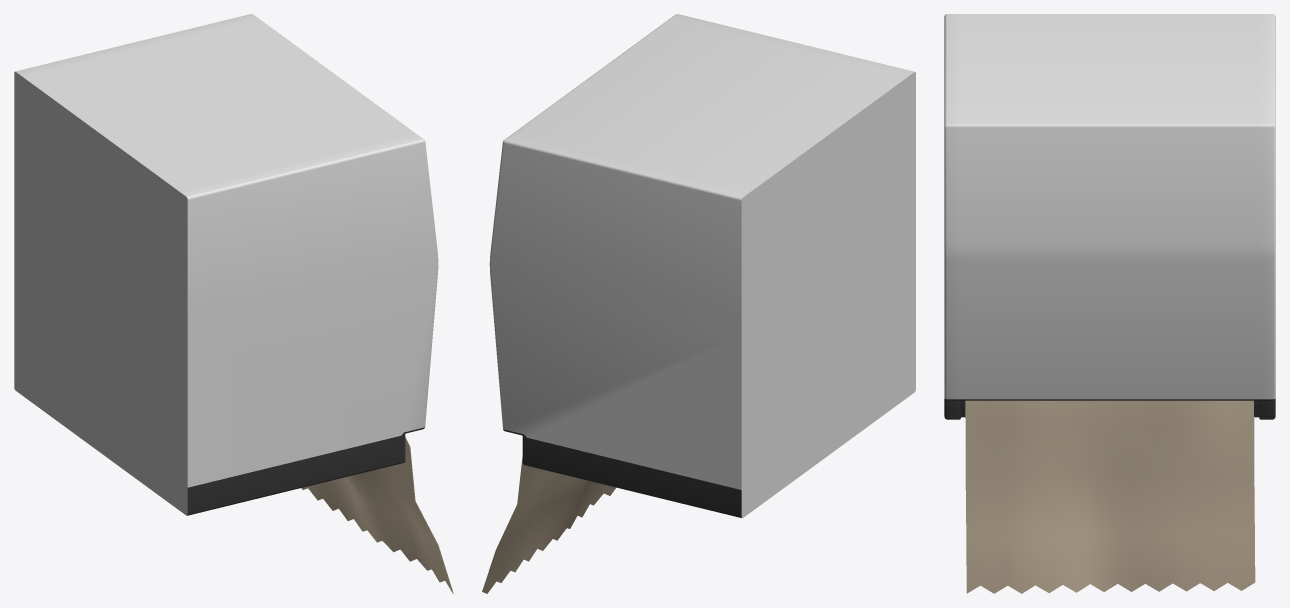
File: paper_towel_dispenser.gltf
3 views of the same model, side by side, from view 1: azimuth 30°, elevation 25°; view 2: azimuth 150°, elevation 25°; view 3: azimuth 270°, elevation 25° (orthographic). The views are drawn at different scales.
Parts seen in each view (by area): view 1: Paper Towel Dispenser, Paper Towel; view 2: Paper Towel Dispenser, Paper Towel; view 3: Paper Towel Dispenser, Paper Towel.
Boxes of the visible parts, box(x1,y1,x2,y2) form: Paper Towel Dispenser: box(14, 14, 438, 515); Paper Towel: box(301, 437, 453, 593); Paper Towel Dispenser: box(489, 14, 915, 518); Paper Towel: box(482, 457, 615, 593); Paper Towel Dispenser: box(944, 14, 1275, 419); Paper Towel: box(965, 400, 1255, 593).
Bounding box in the file's own units: 1.87 × 3.01 × 2.
Materials: 3 (3 with a texture image).
